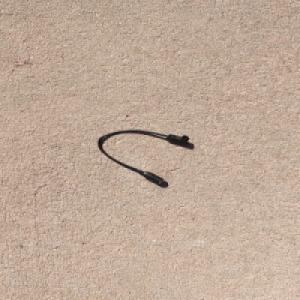Wire: (97, 128, 191, 184)
